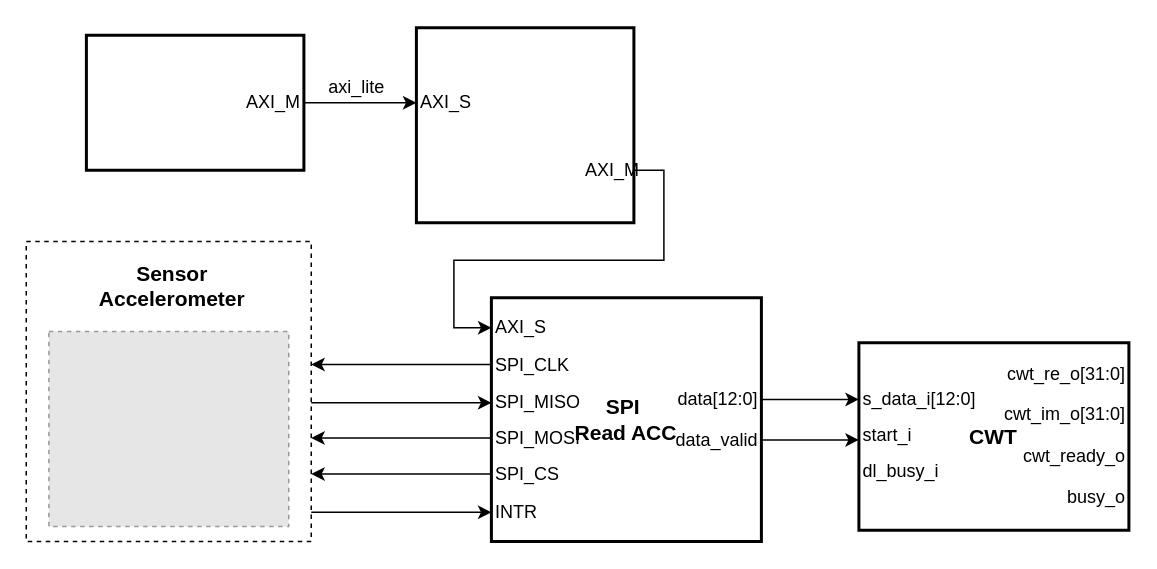
This 1157x569 diagram has some shape labels left out. Grey dashed boxes stand in for pictures. The shapes that lost their labels are listed below. From the top down, each one's box as (x1, y1, x2, y2) in pixels, then its label:
(84, 33, 305, 171): Processor System
(414, 26, 635, 224): AXI Interconnect
